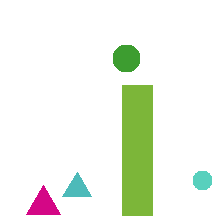circle: (113, 45, 139, 71), (193, 171, 211, 189)
rectangle: (122, 85, 152, 215)
triangle: (26, 185, 60, 214), (62, 172, 91, 196)
